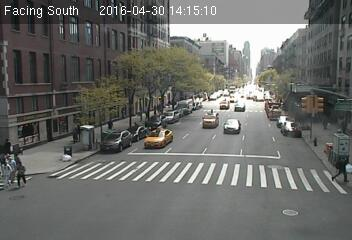neg: (96, 173, 115, 198), (176, 160, 193, 182), (114, 55, 130, 76), (246, 137, 260, 155), (254, 33, 268, 51), (32, 78, 45, 95), (103, 119, 116, 135), (147, 126, 159, 142), (223, 115, 235, 131), (125, 117, 137, 133), (70, 11, 82, 27), (30, 42, 41, 57), (73, 66, 84, 80), (218, 69, 228, 82), (203, 112, 213, 124), (68, 149, 77, 161), (283, 119, 291, 129)
pos: (327, 151, 351, 186), (1, 154, 19, 178), (12, 161, 28, 182), (68, 122, 83, 142), (1, 137, 15, 156)
